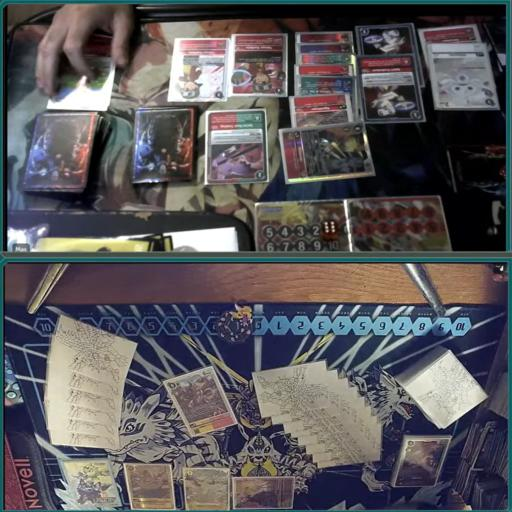card: (43, 48, 121, 124), (284, 121, 376, 183), (161, 366, 240, 432), (202, 109, 266, 189), (429, 43, 497, 111), (361, 56, 428, 124), (166, 32, 228, 101), (226, 34, 286, 100), (387, 437, 451, 491), (122, 459, 172, 512), (356, 22, 416, 66), (230, 476, 296, 512), (182, 462, 226, 512), (418, 21, 484, 52), (294, 74, 358, 104), (289, 96, 354, 125), (294, 64, 358, 80), (294, 52, 357, 68), (294, 29, 353, 45), (294, 41, 355, 56)
